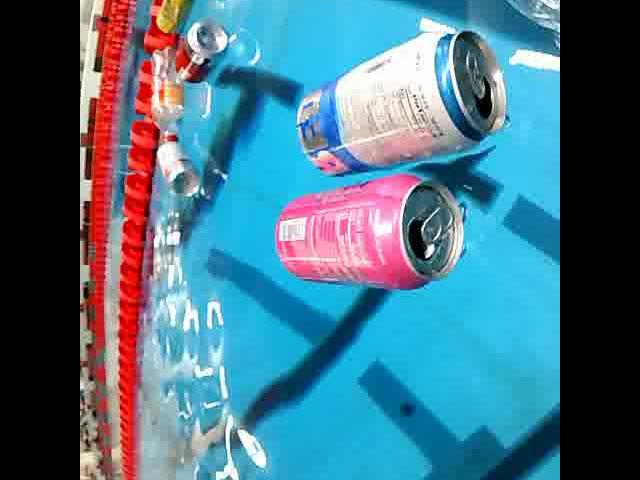Bottle: (149, 42, 183, 148)
Can: (291, 21, 511, 177), (270, 169, 476, 291), (172, 15, 232, 86), (156, 138, 208, 204), (153, 0, 199, 36)
